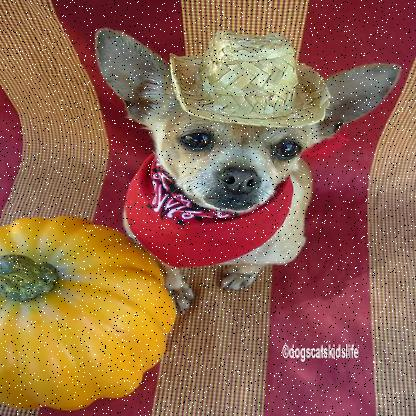dog: (95, 25, 399, 302)
